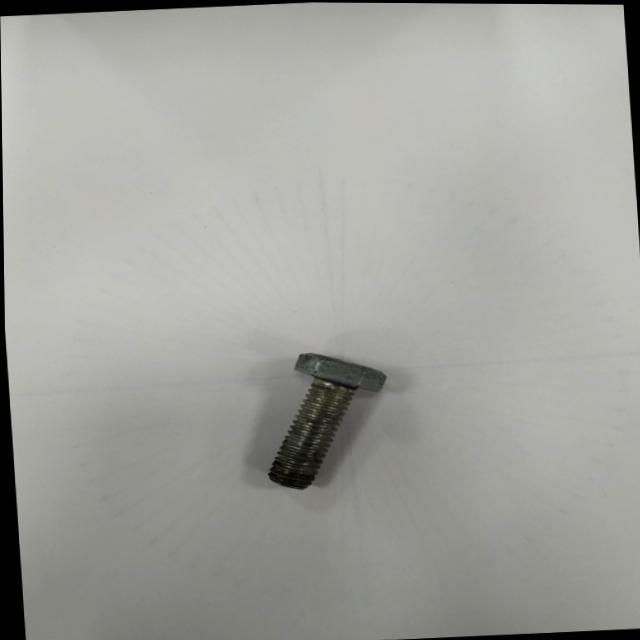Bolt: (267, 353, 386, 489)
